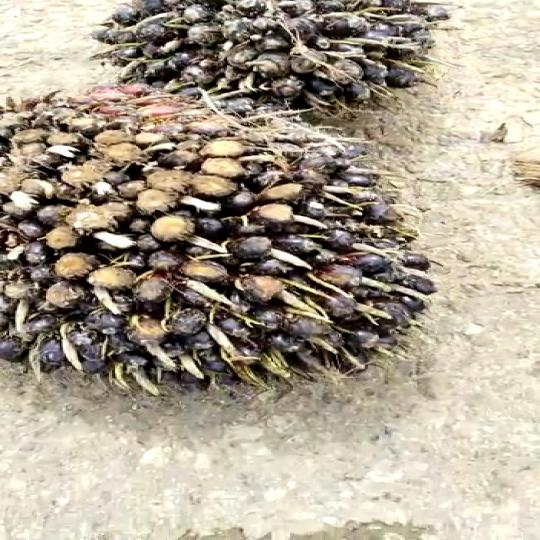mentah: (0, 62, 446, 423), (103, 0, 444, 135)
